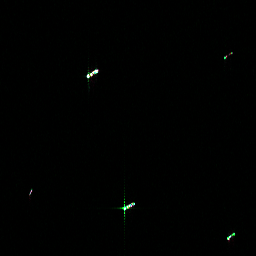ship: (120, 199, 137, 213), (84, 67, 100, 80), (221, 48, 235, 61), (224, 230, 237, 242)
